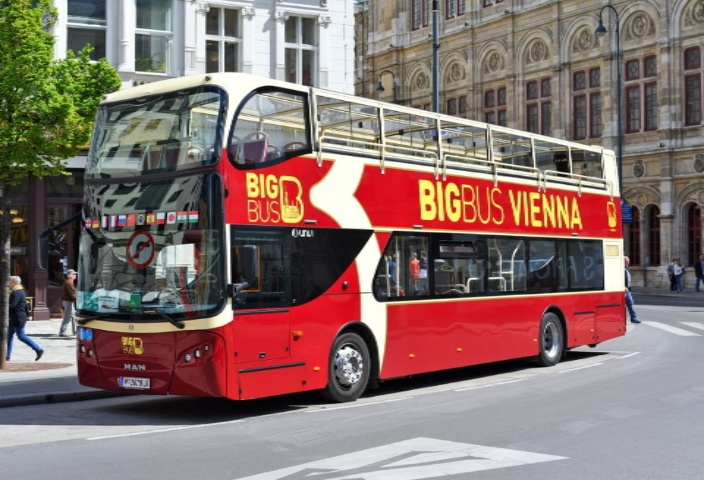bus: (73, 71, 630, 405)
